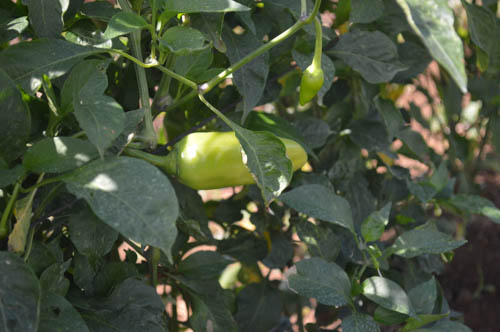ChiliPepper: (174, 132, 312, 189), (294, 68, 322, 107)
